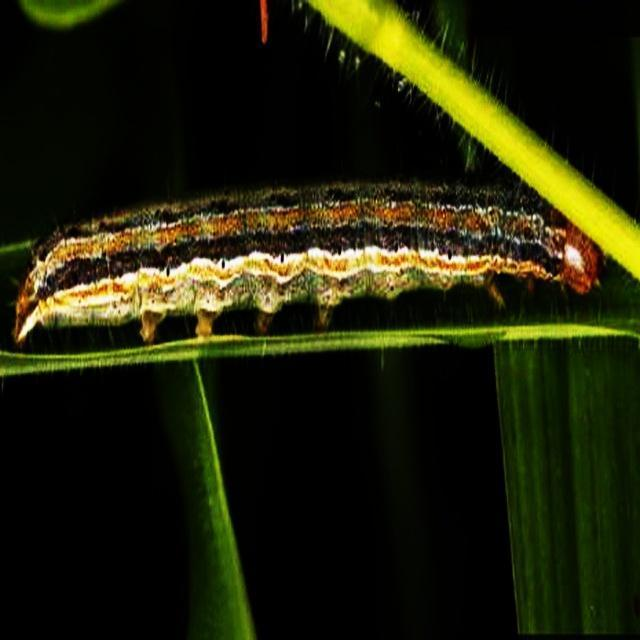gusano_cogollero: (8, 174, 608, 332)
